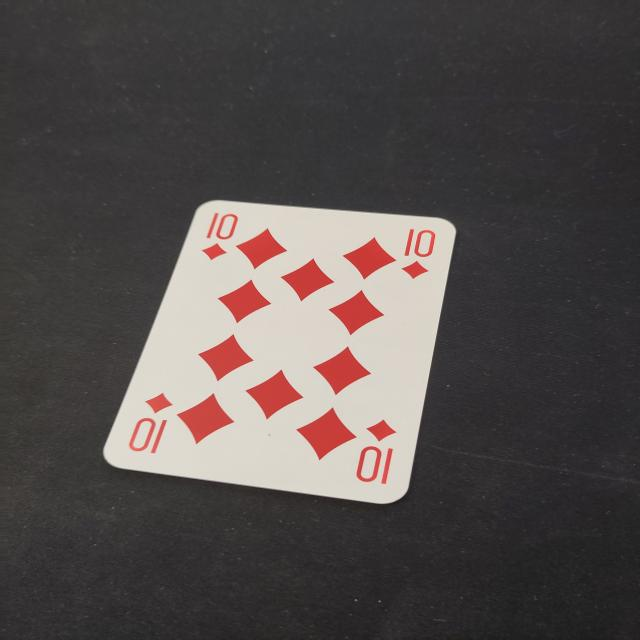10d: (351, 415, 402, 493), (125, 389, 179, 462), (192, 208, 246, 268), (395, 223, 442, 288)
